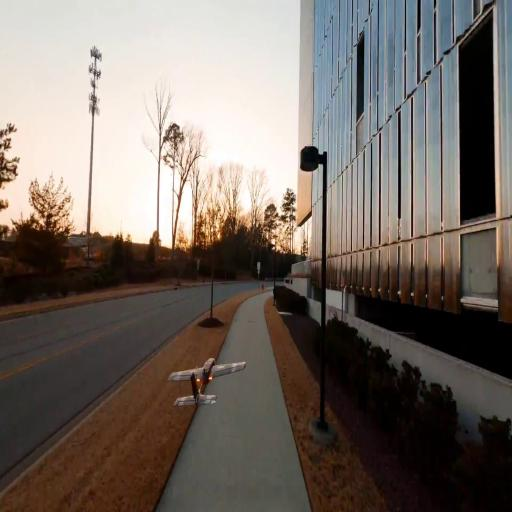uav: (166, 354, 248, 411)
